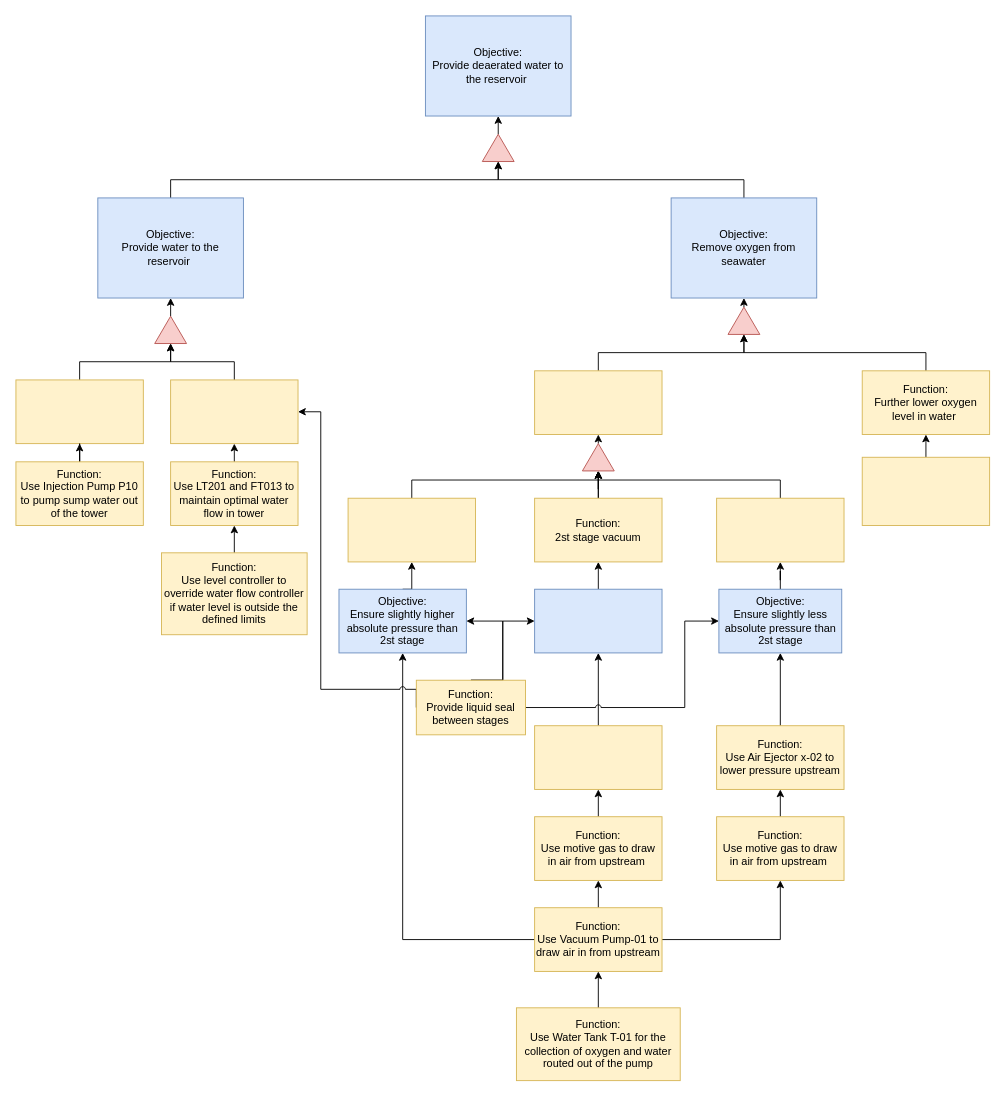
The diagram is 1006 pixels wide and 1097 high, and some of its shapes have lost their labels. The shapes that lost their labels are listed below. From the top down, each one's centre as x and y in pixels, then its label:
pixel 79 411: Function: Inject seawater to reservoir
pixel 234 411: Function: Control deaeration tower level
pixel 598 402: Function: Create vacuum stages in deareation tower
pixel 925 491: Function: Inject Oxygen Scavenger in the tank
pixel 411 529: Function: 1st stage vacuum
pixel 780 529: Function: 3st stage vacuum
pixel 598 620: Objective: Ensure slightly less absolute pressure than 1st stage
pixel 598 757: Function: Use Air Ejector x-01 to lower pressure upstream
